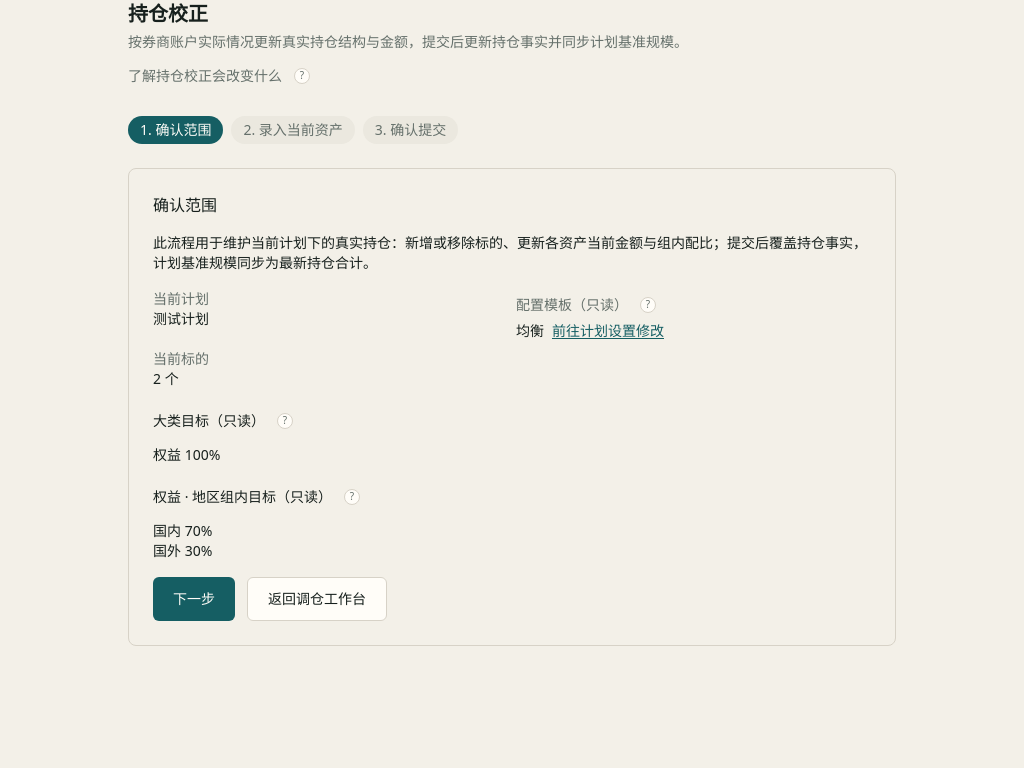
Test: AssetRefreshPage › disables submit and shows zero-change hint when nothing changed
What coordinates should you click on to do the following:
click the button "下一步"
I would click on:
 (194, 599)
Its box is left=153, top=577, right=235, bottom=621.
(page scrolled)
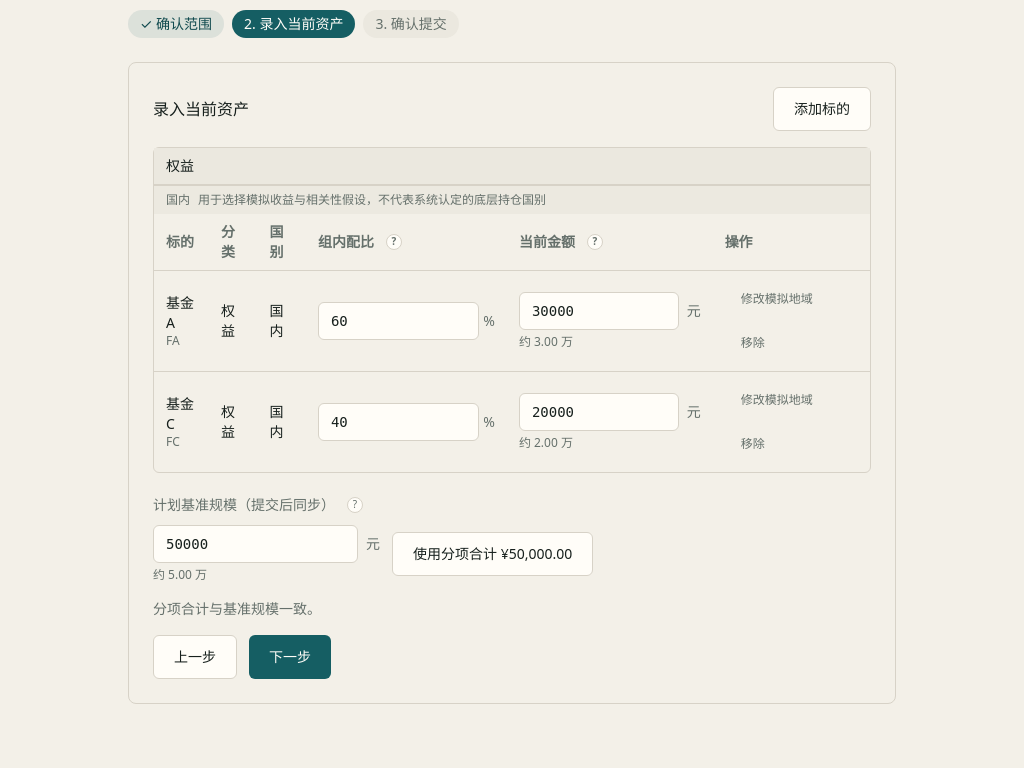
What coordinates should you click on to do the following:
click the button "下一步"
I would click on:
 (290, 657)
Its box is left=249, top=635, right=331, bottom=679.
(page scrolled)
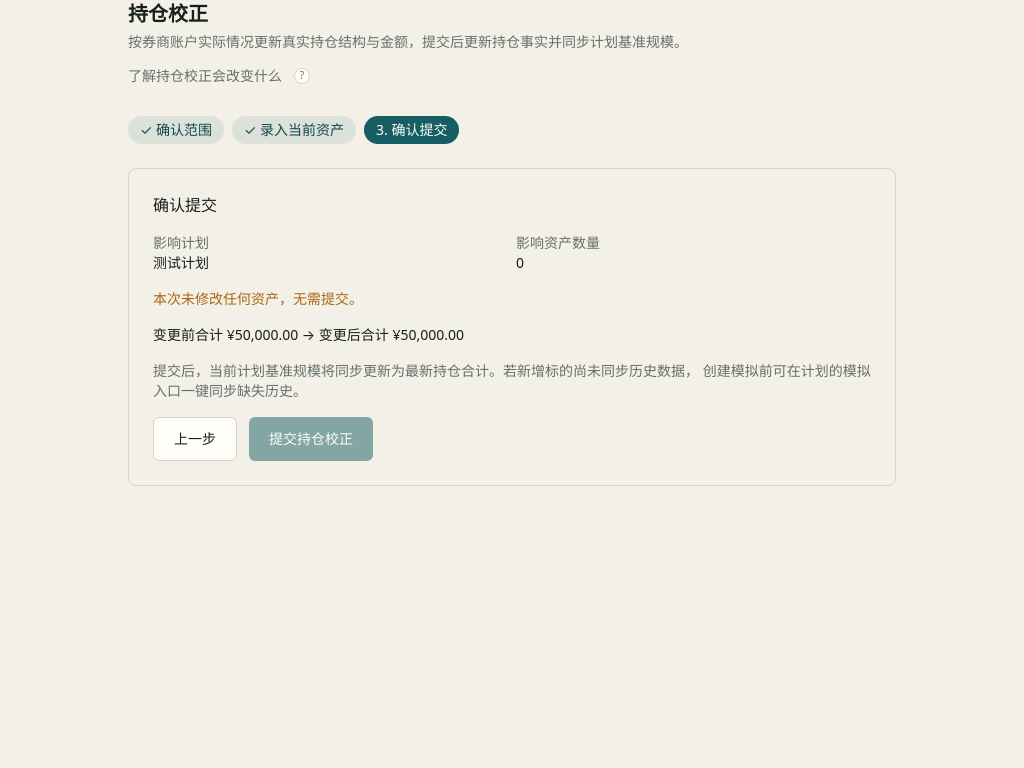
Now the text with test id "asset-refresh-change-count" reads "0", box left=516, top=253, right=524, bottom=272
Now the text with test id "asset-refresh-no-changes" shows "本次未修改任何资产", box left=153, top=289, right=363, bottom=308
Now the button "提交持仓校正" is disabled, box left=249, top=417, right=373, bottom=461
